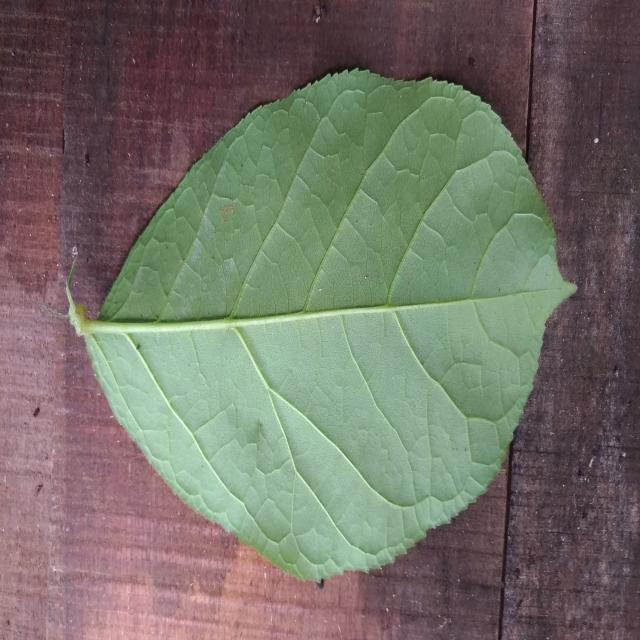padri: (66, 69, 575, 580)
